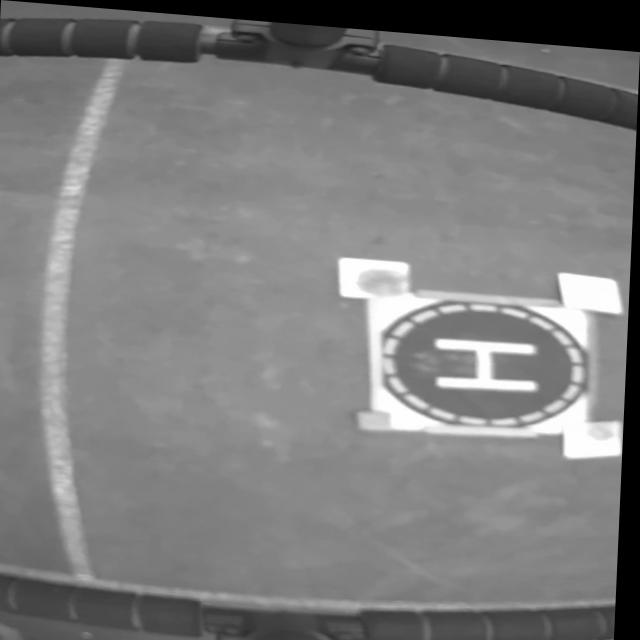Helipad: (437, 330, 539, 383)
